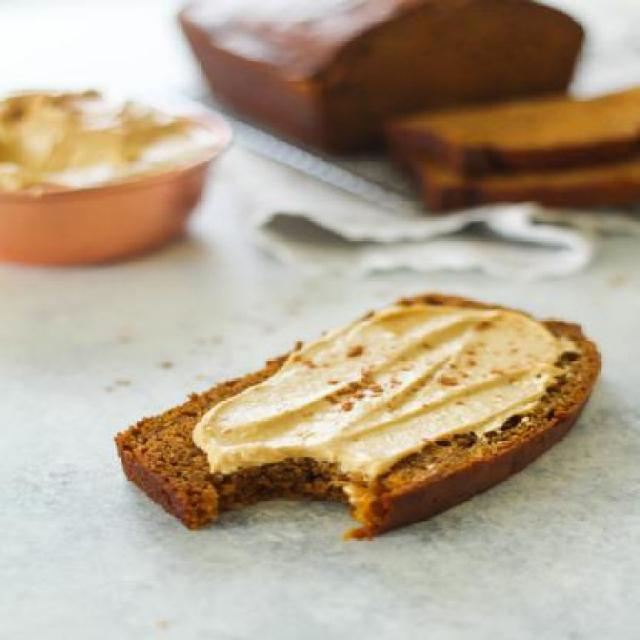Spread: (192, 298, 566, 462)
